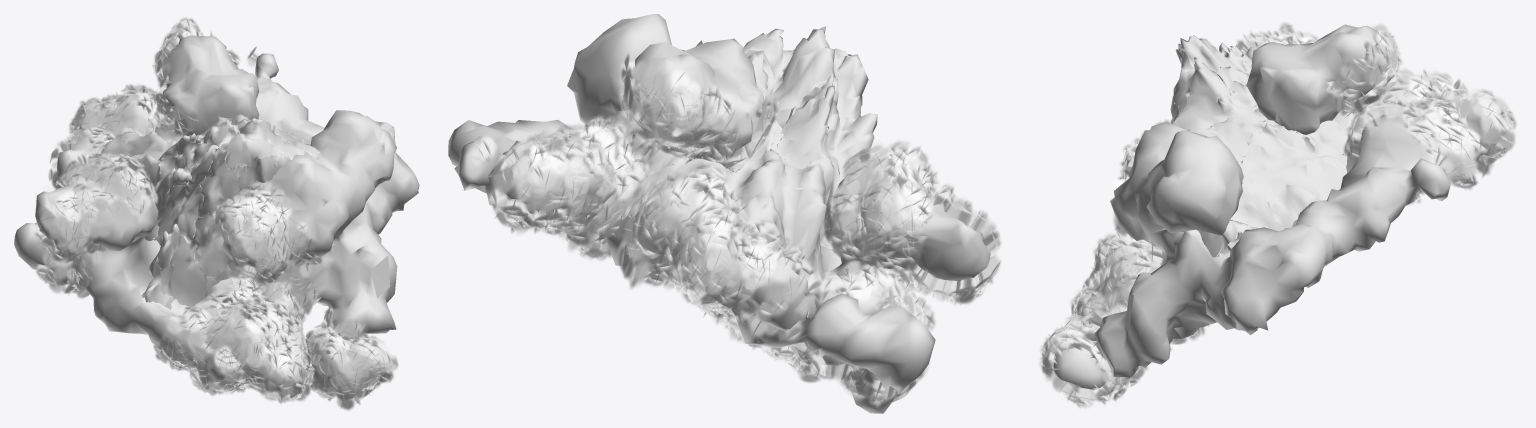
File: heaven.glb
3 views of the same model, side by side, from view 1: azimuth 30°, elevation 25°; view 2: azimuth 150°, elevation 25°; view 3: azimuth 270°, elevation 25° (orthographic). The views are drawn at different scales.
Visible parts, largest first — view 1: Object_4; view 2: Object_4; view 3: Object_4.
Part boxes in pixels (<box>): Object_4: <box>14,17,419,410</box>; Object_4: <box>448,14,1001,413</box>; Object_4: <box>1038,22,1516,408</box>.
Bounding box in the file's own units: 2.12 × 1.64 × 1.98.
Materials: 2 (1 with a texture image).
